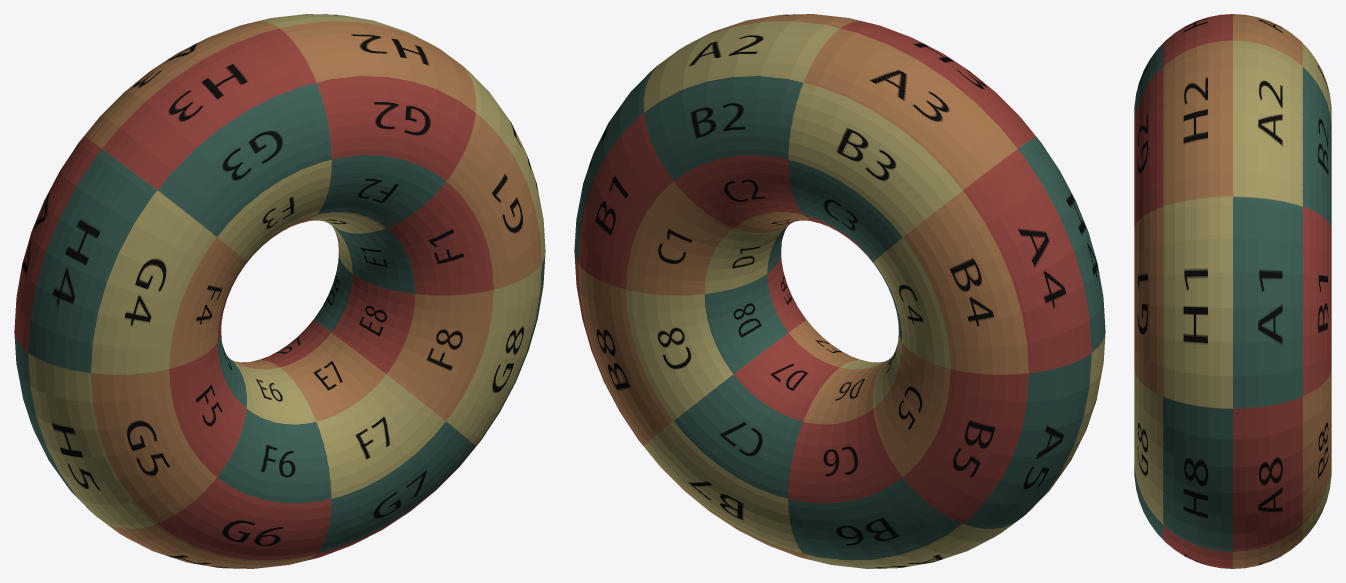
File: texture_torus_R10_r27.glb
3 views of the same model, side by side, from view 1: azimuth 30°, elevation 25°; view 2: azimuth 150°, elevation 25°; view 3: azimuth 270°, elevation 25° (orthographic). The views are drawn at different scales.
Visible parts, largest first — view 1: world; view 2: world; view 3: world.
Boxes of the visible parts, x1,y1,x2,y2 form: world: [14, 14, 545, 568]; world: [574, 14, 1105, 568]; world: [1134, 14, 1331, 568].
Size of the model in its own units: 25.87 by 25.82 by 9.18.
Materials: 1 (1 with a texture image).
